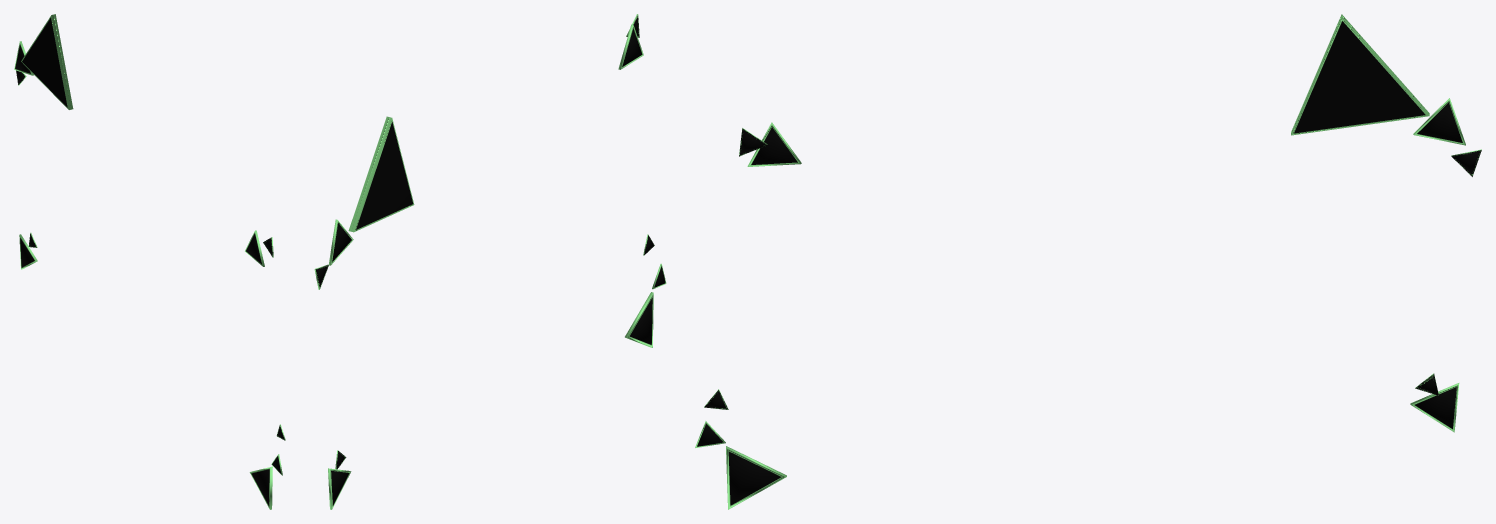
Rendered from REC_UI_objects2.fbx.
The picture shows the model from 3 angles, left to right: view 1: azimuth 30°, elevation 25°; view 2: azimuth 150°, elevation 25°; view 3: azimuth 270°, elevation 25°; orthographic projection. The views are drawn at different scales.
Visible parts, largest first — view 1: Stage2, Stage2.007, Stage2.004, Stage2.005; view 2: Stage2, Stage2.007, Stage2.004, Stage2.002, Stage2.005; view 3: Stage2, Stage2.007, Stage2.002, Stage2.005, Stage2.004.
Part boxes in pixels (x1,y1,x2,y2): Stage2: [21, 14, 73, 109]; Stage2.007: [249, 466, 272, 509]; Stage2.004: [245, 230, 264, 266]; Stage2.005: [19, 234, 37, 269]; Stage2: [348, 116, 414, 232]; Stage2.007: [625, 292, 653, 347]; Stage2.004: [618, 24, 643, 69]; Stage2.002: [328, 219, 353, 265]; Stage2.005: [328, 468, 351, 509]; Stage2: [1291, 14, 1429, 135]; Stage2.007: [726, 446, 786, 509]; Stage2.002: [1413, 98, 1465, 145]; Stage2.005: [1410, 383, 1459, 432]; Stage2.004: [747, 122, 801, 166].
Size of the model in its own units: 0.4984 by 12.02 by 17.47.
